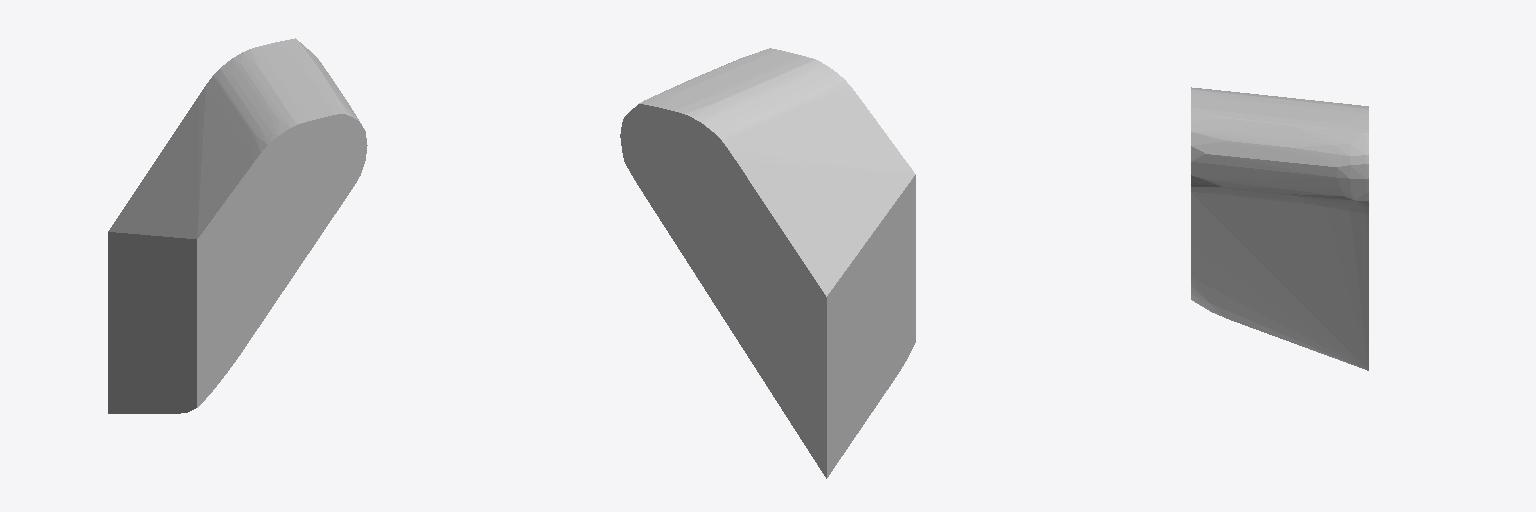
File: Bowl_21_collision_6.obj
3 renders of one model, left to right at view 1: azimuth 30°, elevation 25°; view 2: azimuth 150°, elevation 25°; view 3: azimuth 270°, elevation 25°, orthographic.
Size of the model in its own units: 0.0356 by 0.0546 by 0.0266.